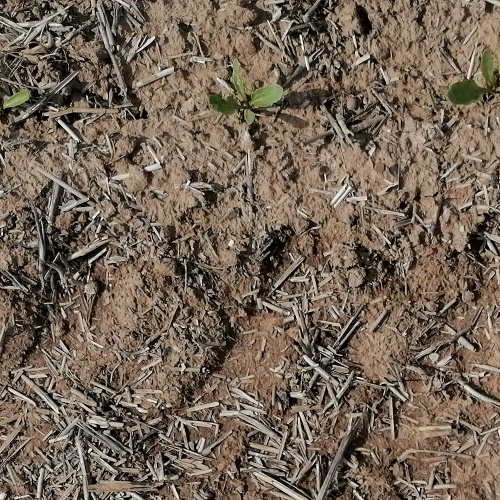beet: (205, 69, 282, 125), (445, 49, 500, 106), (0, 89, 32, 110)
